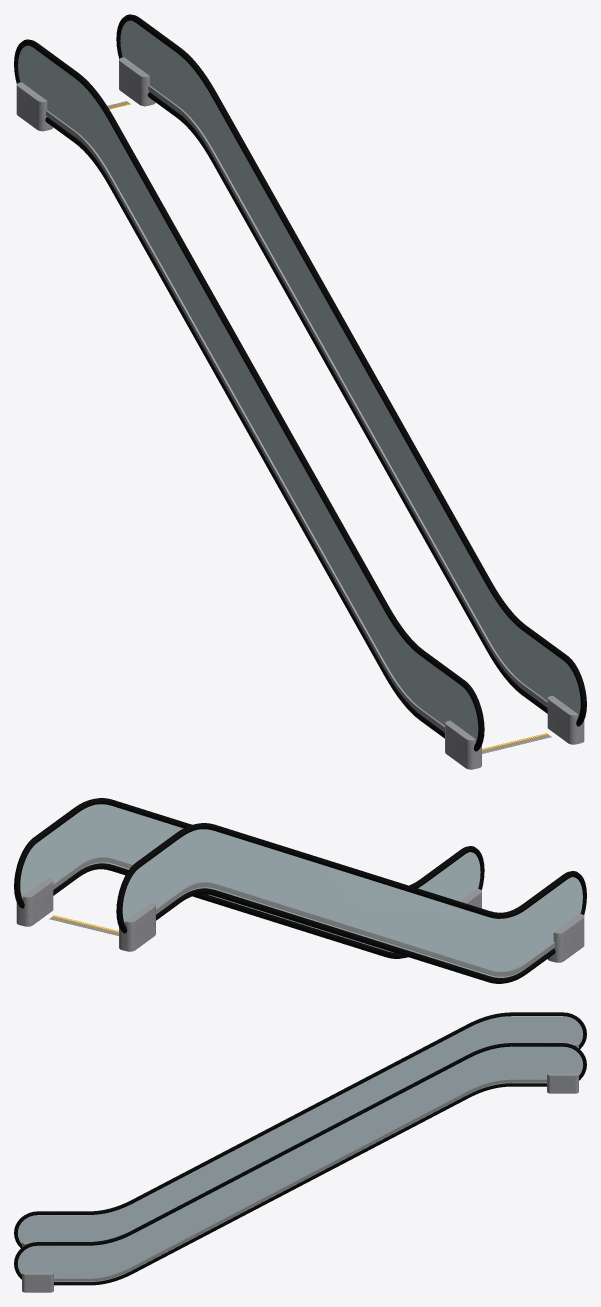
File: gteki_escalator_dress_s1000_r4000_glass.glb
3 views of the same model, one above another, from view 1: azimuth 30°, elevation 25°; view 2: azimuth 150°, elevation 25°; view 3: azimuth 270°, elevation 25° (orthographic). The views are drawn at different scales.
Parts seen in each view (by area): view 1: VIS_balustrades, VIS_moving_handrails, VIS_balustrade_shoes, VIS_newel_bases; view 2: VIS_balustrades, VIS_moving_handrails, VIS_newel_bases, VIS_balustrade_shoes, VIS_comb_plates; view 3: VIS_balustrades, VIS_moving_handrails, VIS_balustrade_shoes, VIS_newel_bases.
Part boxes in pixels (left/top/right/bottom): VIS_balustrades: left=18, top=20, right=580, bottom=741; VIS_moving_handrails: left=14, top=14, right=586, bottom=751; VIS_balustrade_shoes: left=46, top=85, right=547, bottom=731; VIS_newel_bases: left=16, top=57, right=584, bottom=769; VIS_balustrades: left=20, top=804, right=582, bottom=977; VIS_moving_handrails: left=14, top=798, right=586, bottom=983; VIS_newel_bases: left=16, top=877, right=584, bottom=962; VIS_balustrade_shoes: left=53, top=857, right=554, bottom=976; VIS_comb_plates: left=49, top=915, right=118, bottom=935; VIS_balustrades: left=17, top=1016, right=583, bottom=1281; VIS_moving_handrails: left=14, top=1012, right=586, bottom=1285; VIS_balustrade_shoes: left=54, top=1079, right=546, bottom=1281; VIS_newel_bases: left=22, top=1042, right=578, bottom=1292.
Bounding box in the file's own units: 1.52 × 4.98 × 10.44.
Materials: 4 (1 with a texture image).
